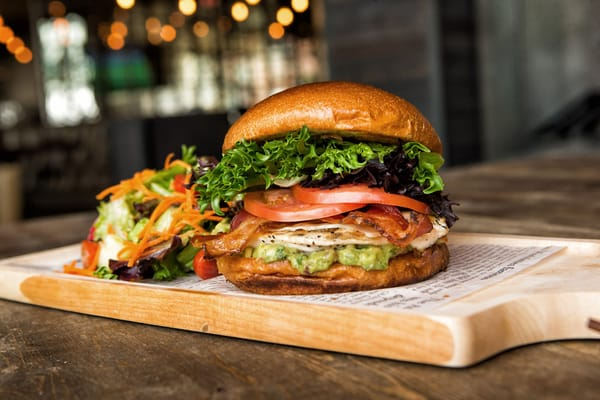soup: (194, 80, 458, 295)
